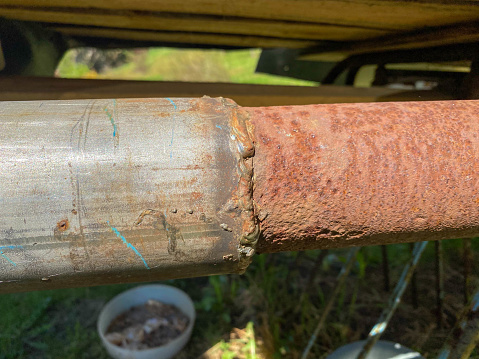Severe: (200, 95, 479, 250)
